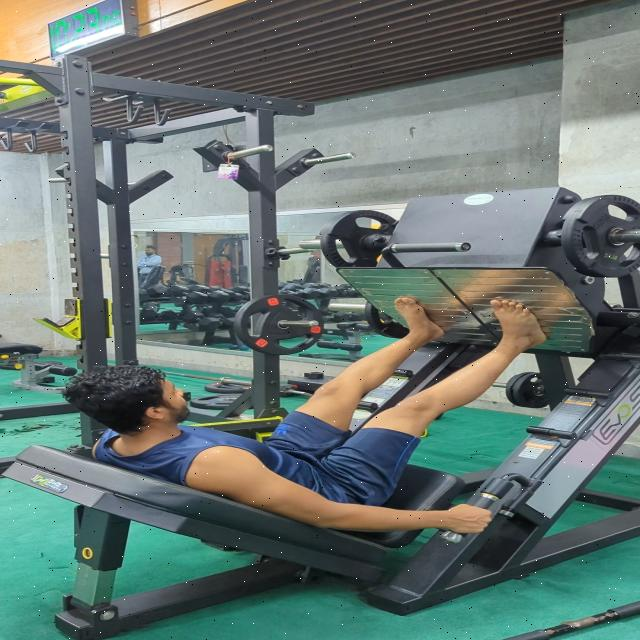Normal_LegPress: (59, 282, 560, 545)
